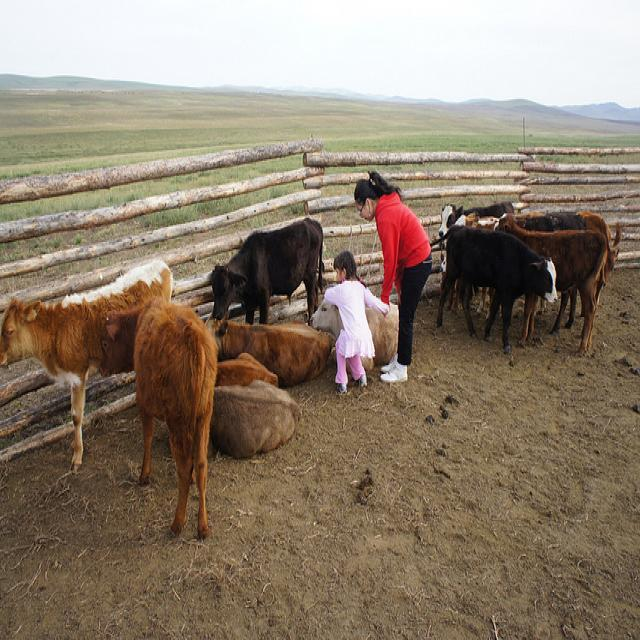cow: (0, 250, 174, 468), (97, 296, 217, 535), (429, 224, 559, 350), (491, 212, 607, 350), (452, 206, 621, 291), (209, 217, 323, 322), (202, 316, 331, 383), (307, 296, 399, 370), (435, 200, 511, 231), (214, 352, 278, 386)
